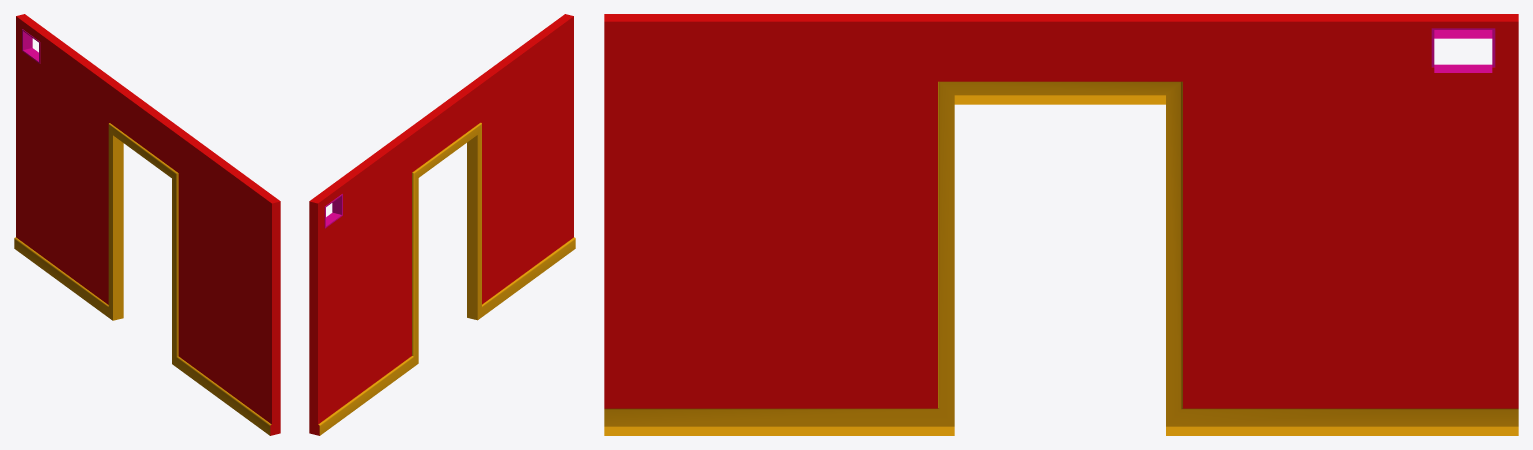
The model's file is Wall_01_1S.fbx.
3 renders of one model, left to right at view 1: azimuth 30°, elevation 25°; view 2: azimuth 150°, elevation 25°; view 3: azimuth 270°, elevation 25°, orthographic. The views are drawn at different scales.
Parts seen in each view (by area): view 1: Wall_01; view 2: Wall_01; view 3: Wall_01.
Part boxes in pixels (x1,y1,x2,y2): Wall_01: (14,14,280,435); Wall_01: (309,14,575,435); Wall_01: (604,14,1518,435).
Bounding box in the file's own units: 248 × 5000 × 10000.
